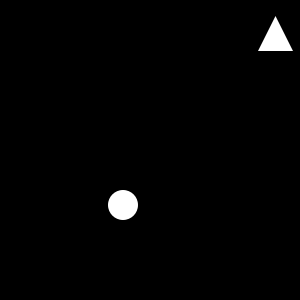rectangle: (108, 190, 138, 220)
triangle: (258, 16, 293, 51)
